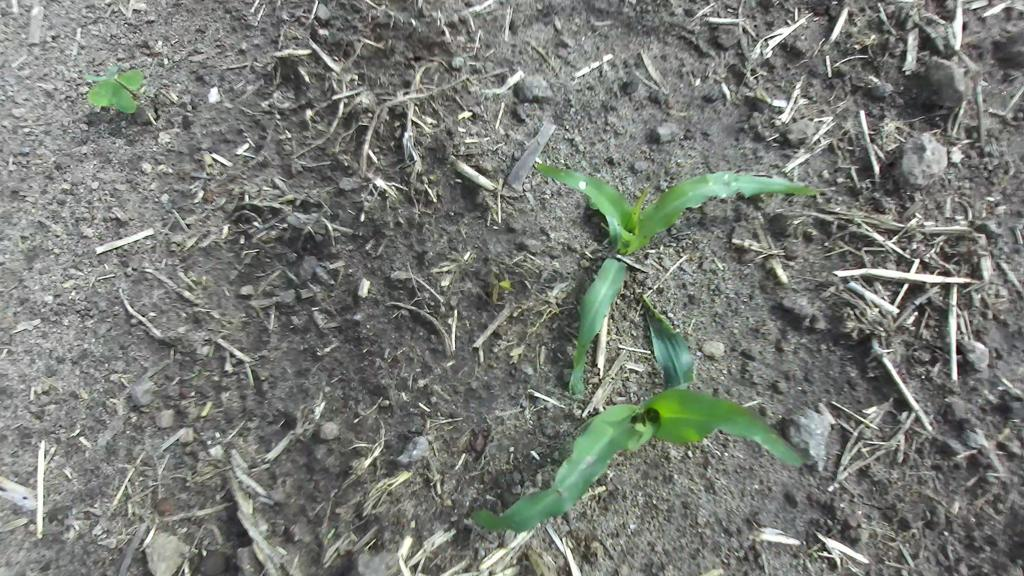BroWeed: (76, 60, 144, 116), (485, 268, 517, 305), (856, 335, 884, 363), (806, 542, 826, 560)
Maize: (522, 163, 818, 406), (454, 363, 812, 541)
